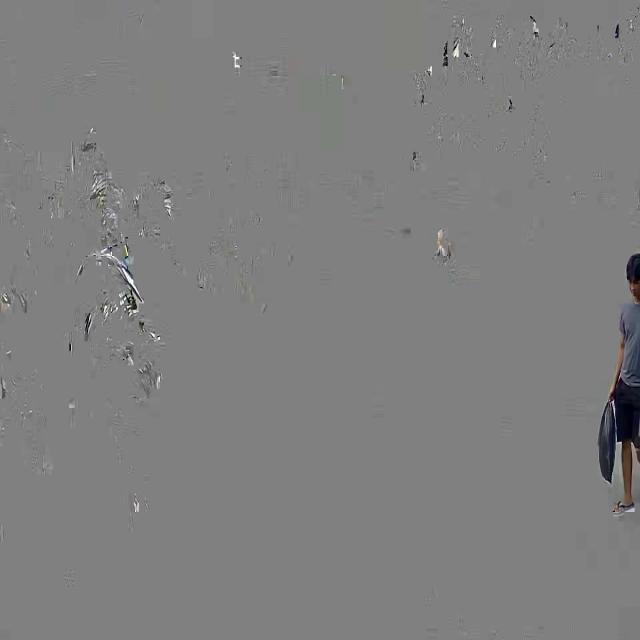garbage: (596, 399, 618, 484)
person: (615, 250, 640, 361)
